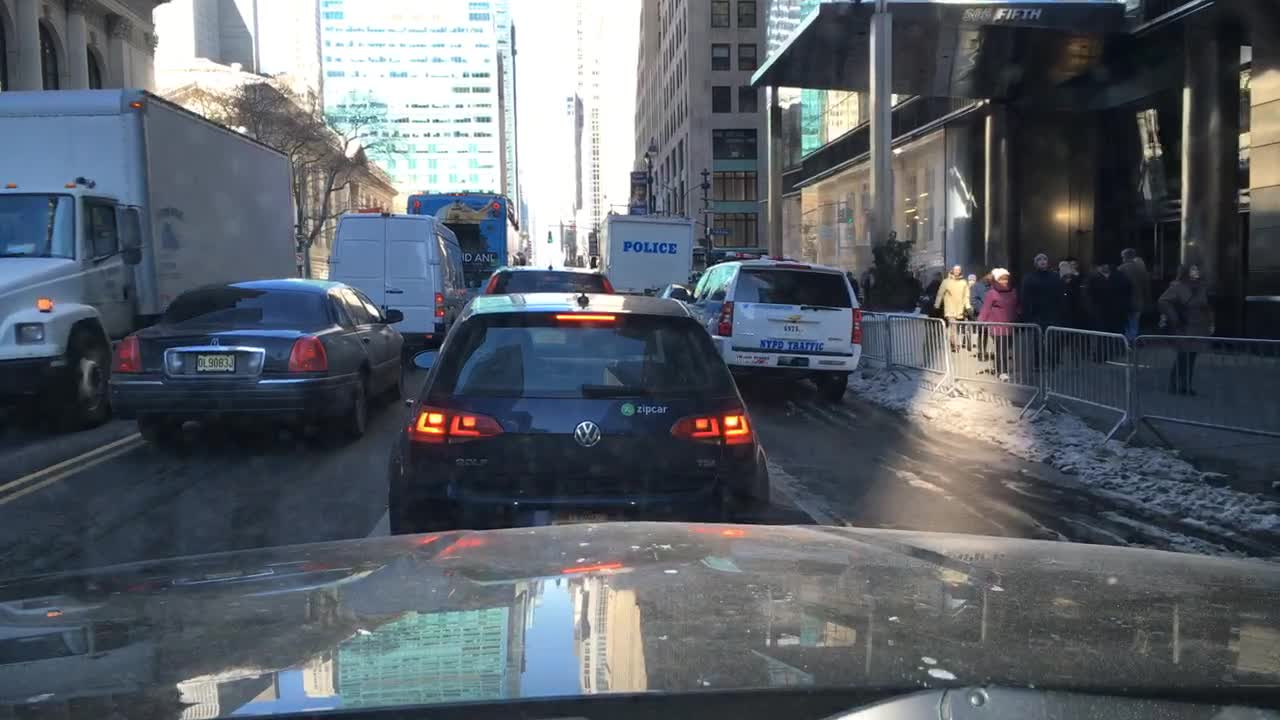bus: (408, 193, 520, 278)
car: (389, 292, 767, 532), (109, 275, 401, 444), (691, 257, 862, 401), (485, 262, 614, 297)
person: (1160, 266, 1217, 397), (1088, 261, 1128, 362), (1027, 250, 1057, 373), (994, 268, 1022, 378), (938, 264, 967, 350), (1125, 250, 1146, 346), (966, 278, 987, 359), (1062, 262, 1077, 352), (847, 271, 862, 310)
traffic light: (544, 227, 552, 242)
truck: (1, 89, 300, 436), (329, 215, 462, 334), (604, 214, 691, 294)
